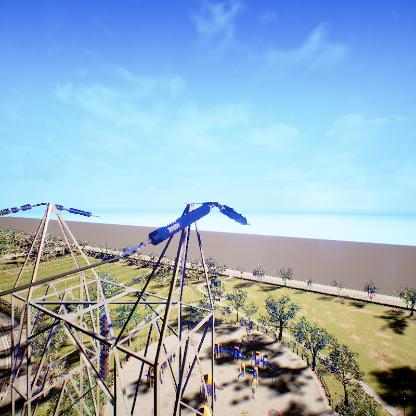insulator: (149, 203, 212, 245), (99, 315, 109, 379), (220, 205, 248, 225), (53, 204, 92, 214)
